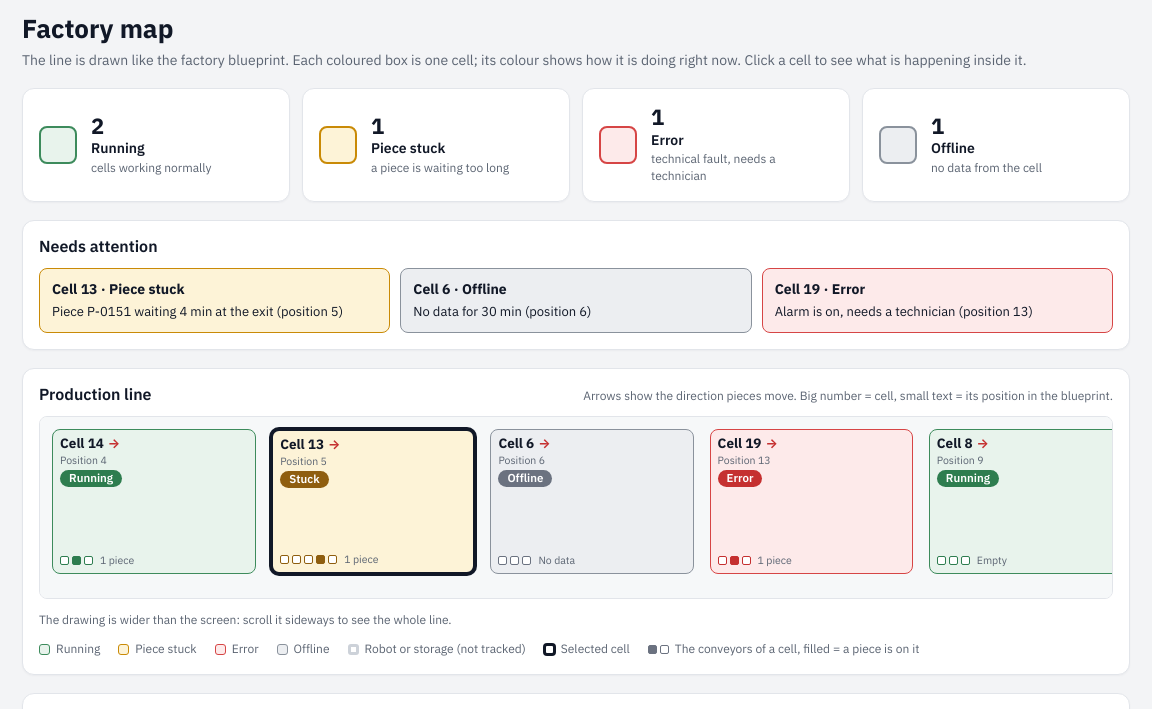
Test: FactoryMap › shows a selected offline cell without values
This screenshot has width=1152, height=709.
Step 1. Click the button with test id "cell-6" → (592, 502), box [490,430,694,574]
(page scrolled)
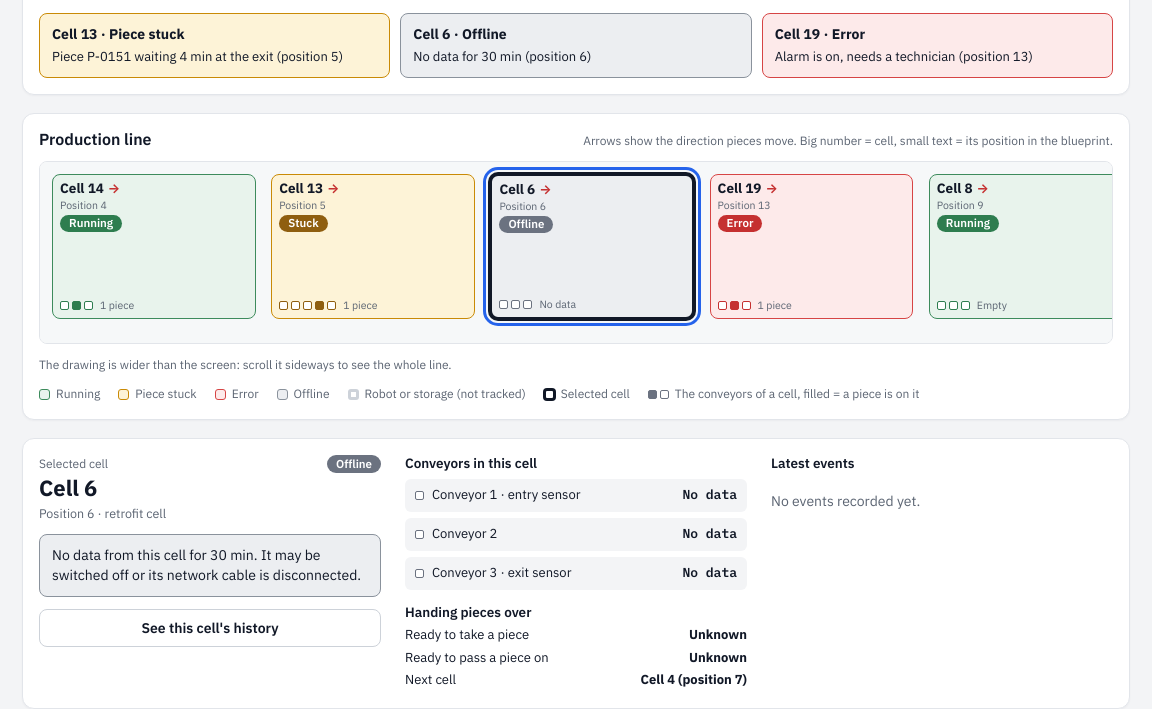
Check: the text "Unknown" is shown 2 times, box [689,626,747,644]; [689,649,747,667]
Check: the text with test id "cell-explanation" shows "No data from this cell for 30 min. It may be switched off or its network cable is disconnected.", box [52,546,361,584]
Check: the text "No data" is shown 3 times, box [682,486,737,505]; [682,525,737,544]; [682,564,737,582]
